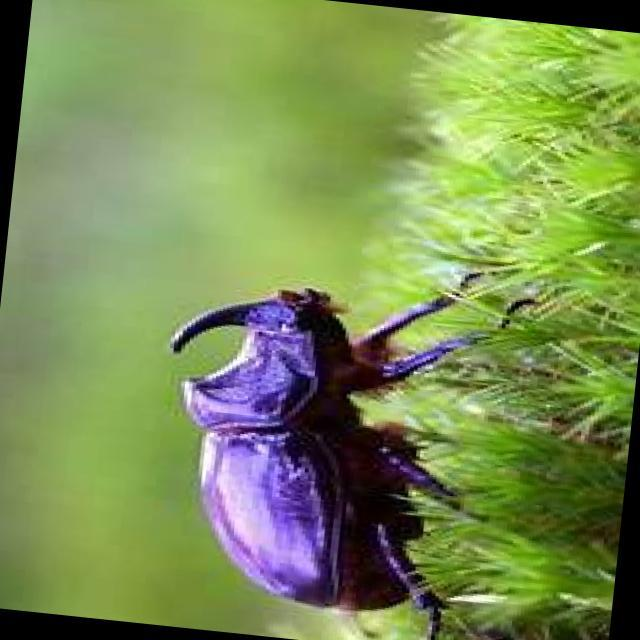Rhino-beetle: (139, 269, 429, 608)
